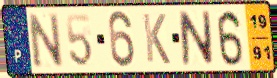5: (64, 12, 95, 68)
6: (107, 10, 136, 70), (215, 8, 244, 67)
K: (141, 12, 172, 67)
N: (26, 12, 66, 70), (178, 10, 215, 68)
